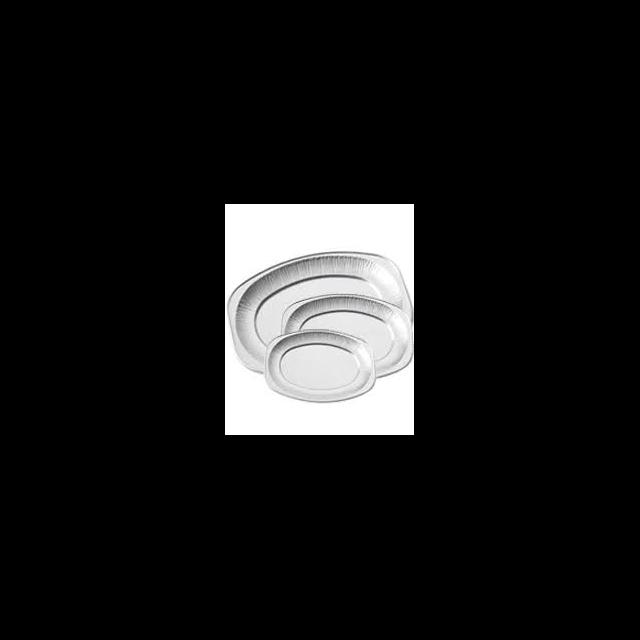metal: (226, 250, 414, 374), (280, 293, 414, 377), (264, 328, 376, 402)
